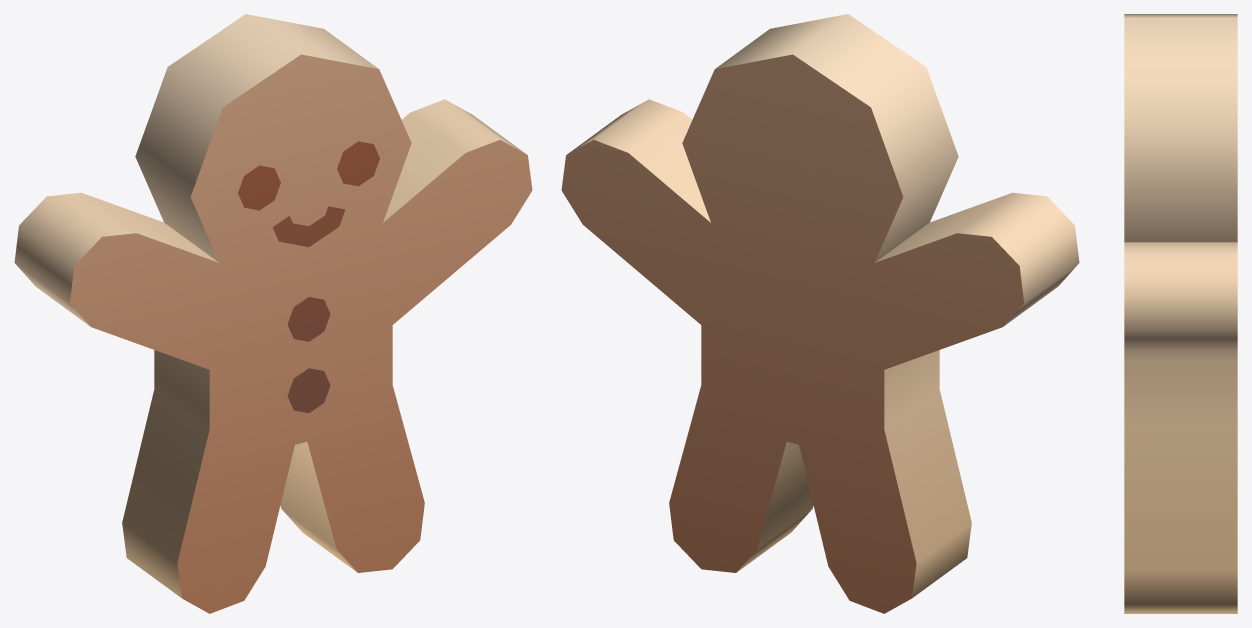
The model's file is gingerbread-man.glb.
The picture shows the model from 3 angles, left to right: view 1: azimuth 30°, elevation 25°; view 2: azimuth 150°, elevation 25°; view 3: azimuth 270°, elevation 25°; orthographic projection. The views are drawn at different scales.
Parts seen in each view (by area): view 1: gingerbread-man; view 2: gingerbread-man; view 3: gingerbread-man.
Boxes of the visible parts, x1,y1,x2,y2 form: gingerbread-man: (14, 14, 532, 613); gingerbread-man: (561, 14, 1079, 613); gingerbread-man: (1124, 14, 1237, 613).
Bounding box in the file's own units: 0.3393 × 0.3764 × 0.0802.
1 material, 1 textured.
